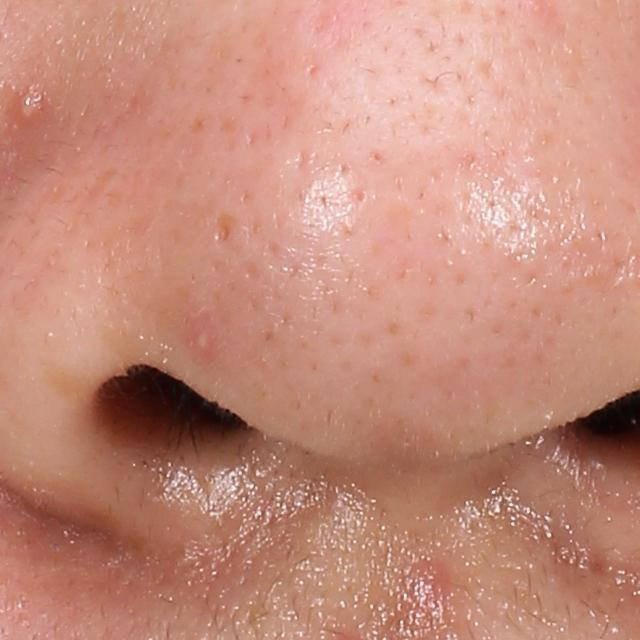atrophic_scar: (214, 216, 236, 248)
papule: (399, 565, 454, 618)
pustule: (16, 91, 50, 120)
